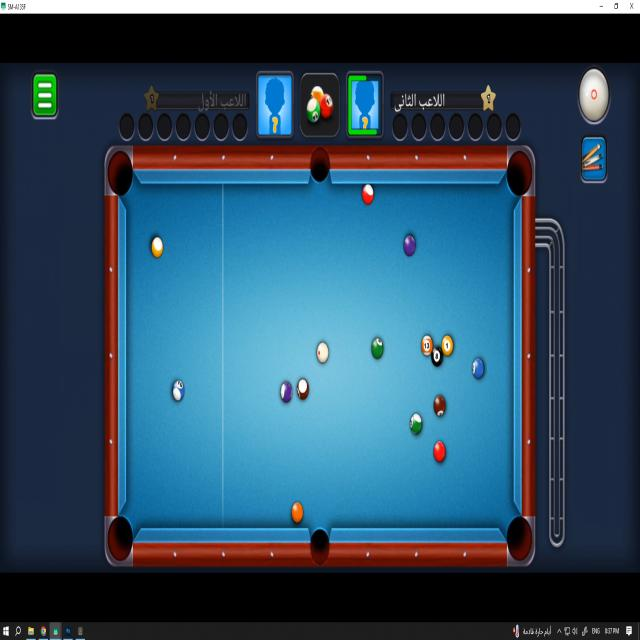object_ball: (371, 338, 383, 359), (472, 358, 484, 379), (292, 502, 304, 523), (410, 414, 422, 434), (404, 235, 415, 256), (422, 335, 433, 356), (173, 380, 184, 401), (434, 441, 445, 462), (434, 395, 445, 416), (442, 335, 453, 356), (152, 237, 163, 257), (297, 379, 308, 399), (281, 382, 292, 402), (362, 185, 373, 205), (431, 347, 442, 366)
white_cue_ball: (317, 342, 328, 363)
